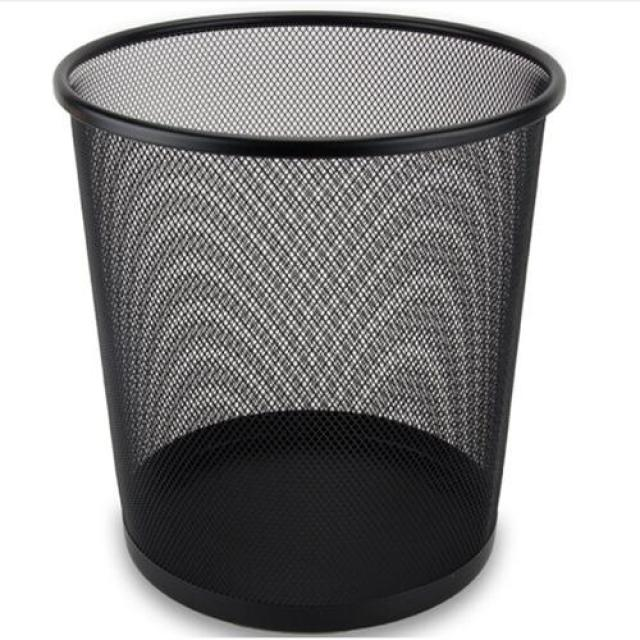dustbin: (48, 1, 569, 639)
